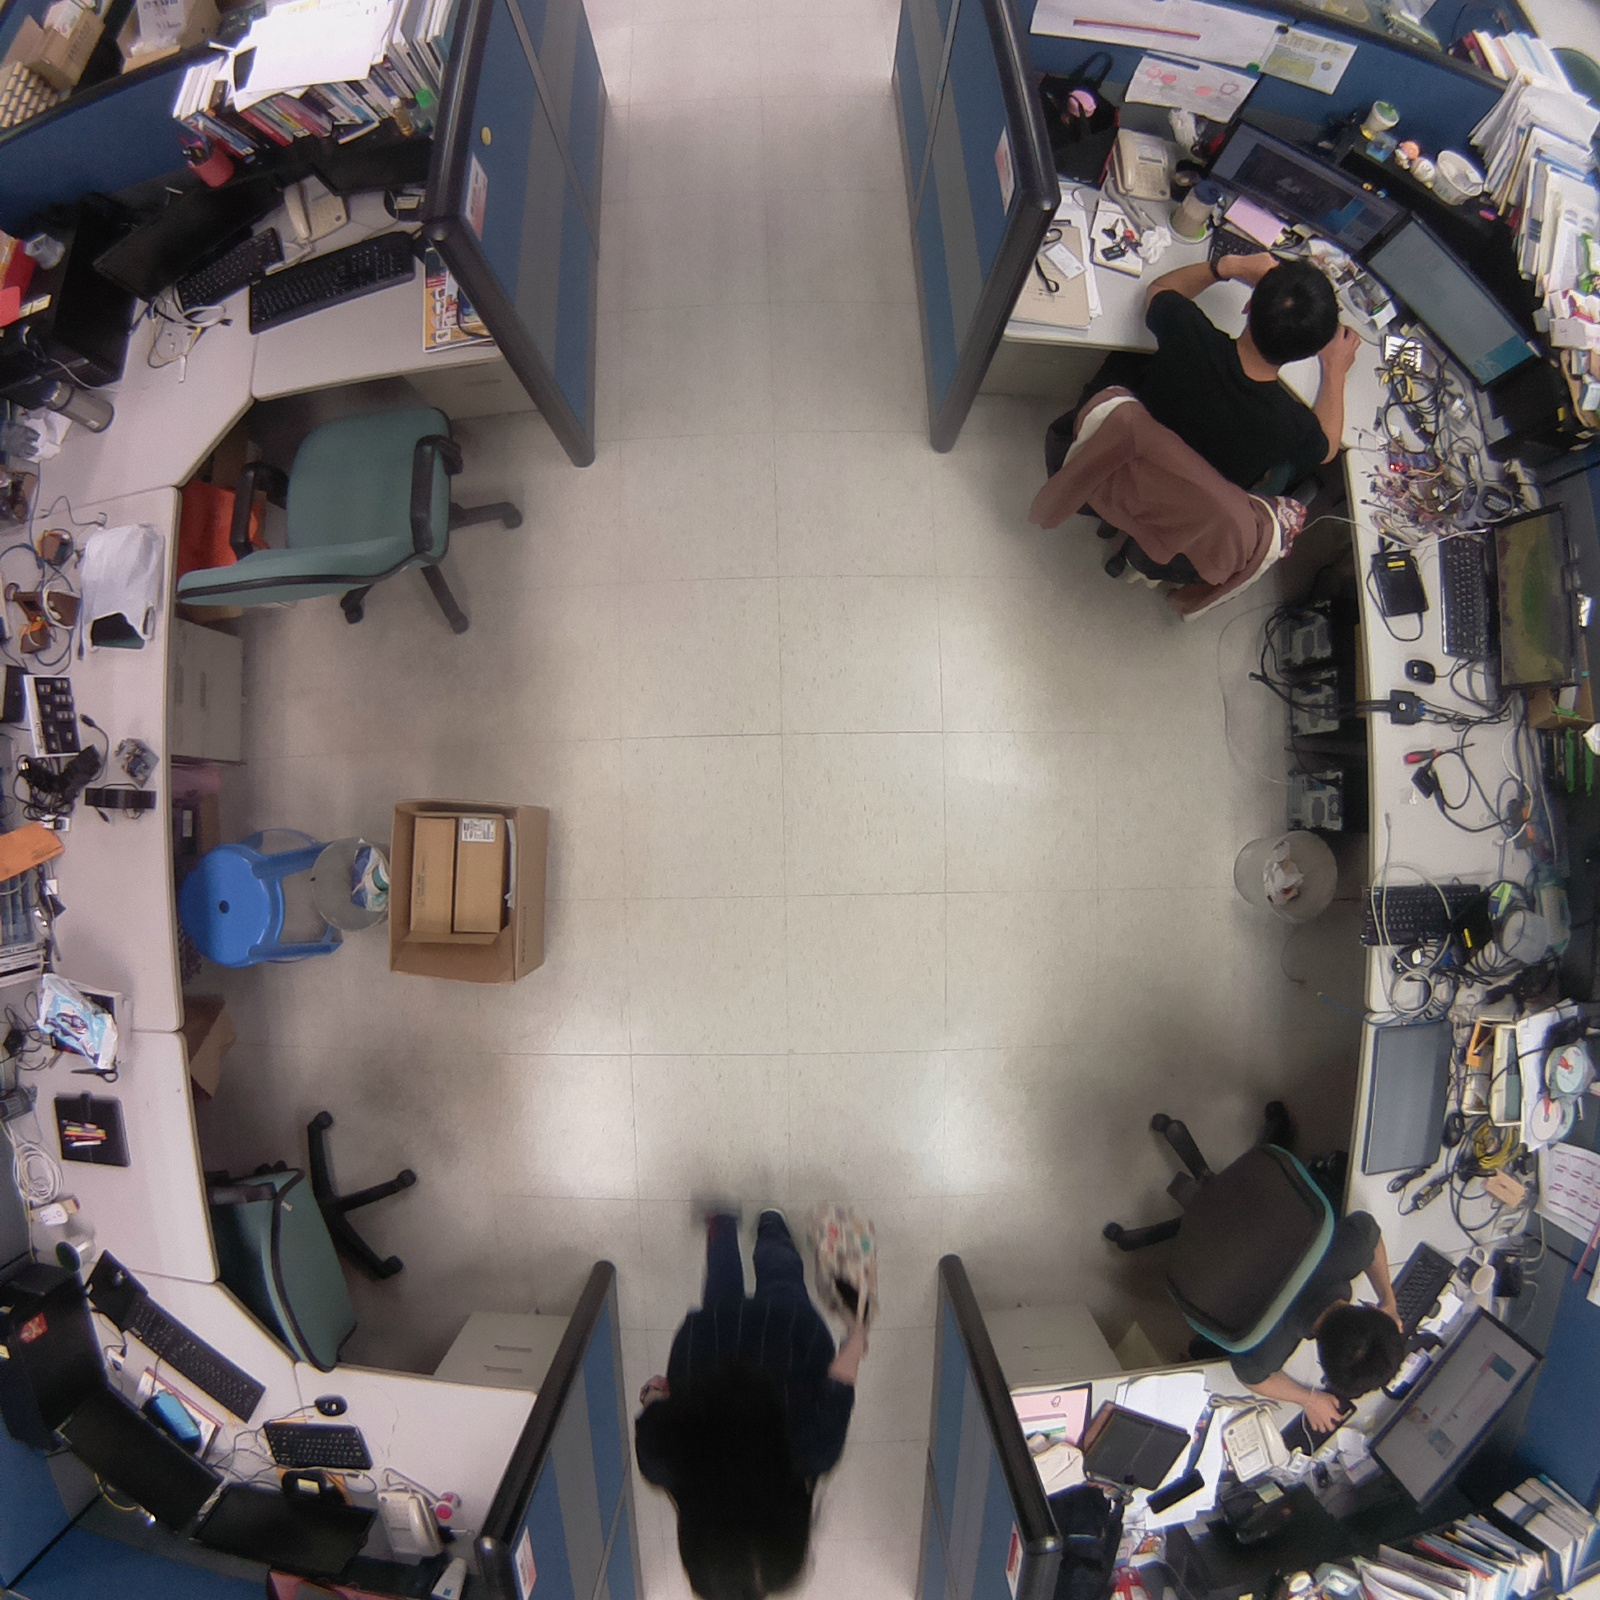chair: (168, 391, 553, 655), (191, 1086, 435, 1391)
head: (666, 1457, 825, 1600), (1237, 255, 1348, 371), (1309, 1296, 1421, 1404)
sitting: (1017, 237, 1373, 632), (1081, 1068, 1429, 1441)
walking: (619, 1168, 894, 1600)
